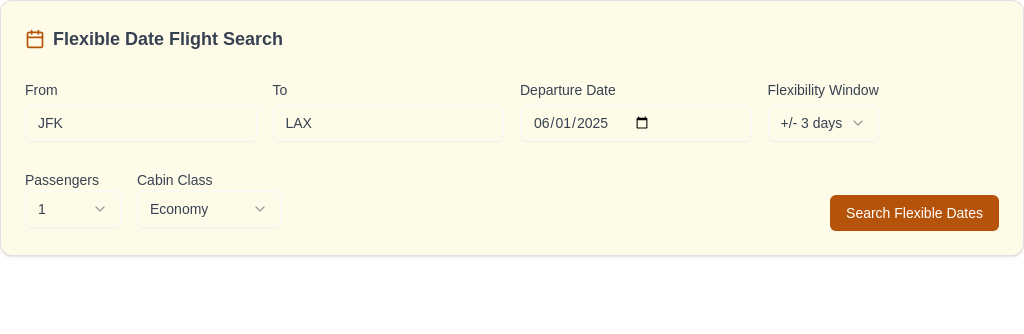
Test case: DateFlexSearch › shows error when airport codes are empty
This screenshot has width=1024, height=334.
Click the button "Search Flexible Dates" at (914, 213), box [830,195,999,231]
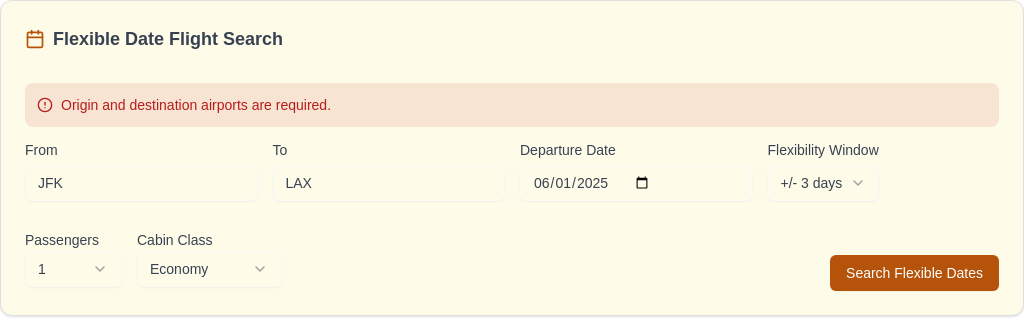
Now the message reads "Origin and destination airports are required.", box [61,97,331,113]
